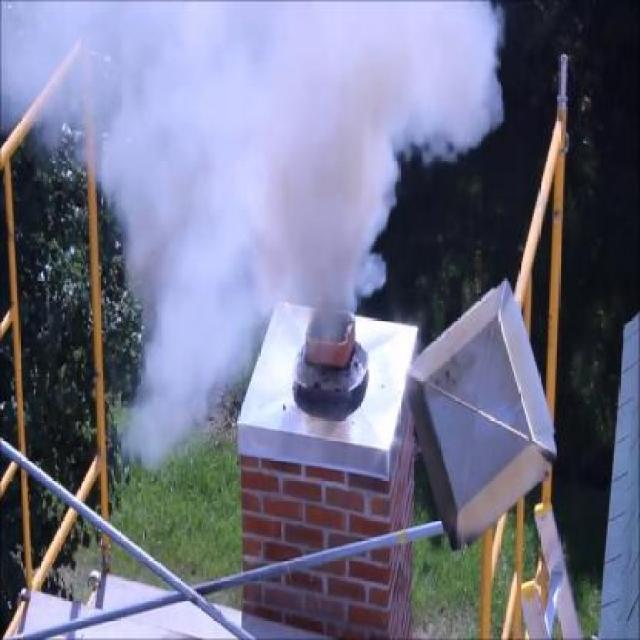smoke: (96, 7, 512, 218), (138, 259, 248, 416)
